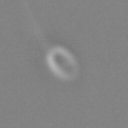normal: (23, 1, 49, 47)
